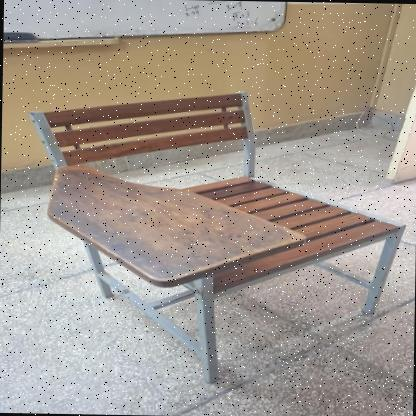chair: (13, 81, 416, 397)
